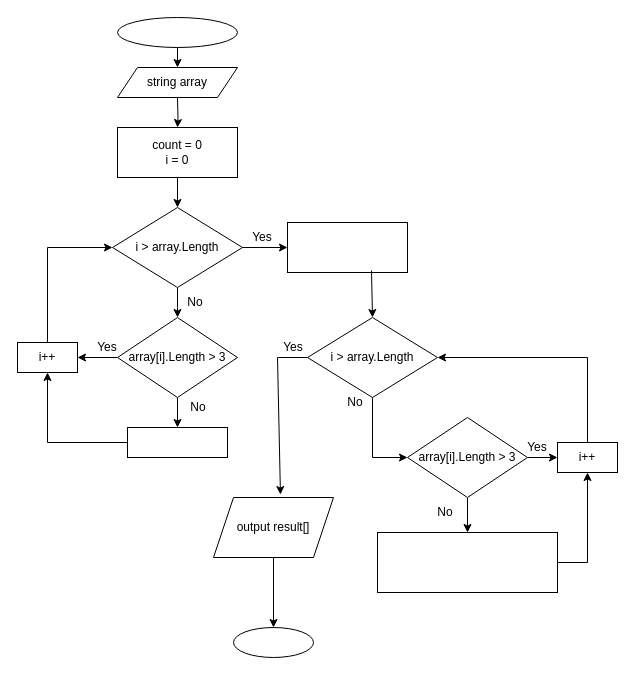
This 635x675 diagram has some shape labels left out. The shapes that lost their labels are listed below. From the top down, each one's centre as x and y in pixels, then its label:
(x=177, y=32): Start
(x=347, y=247): string[] result = new string[count]; i = 0
(x=177, y=442): count++
(x=467, y=562): result[array.Length - count] = array[i]; count--
(x=273, y=642): END
